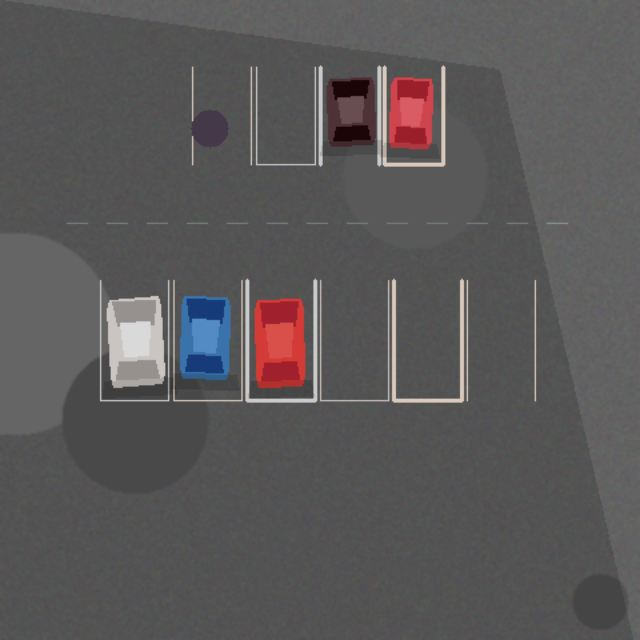space-empty: (320, 280, 388, 400), (393, 280, 461, 400), (467, 280, 535, 400), (192, 67, 251, 164), (256, 67, 315, 164)
space-occupied: (100, 280, 168, 400), (173, 280, 241, 400), (247, 280, 315, 400), (320, 67, 379, 164), (384, 67, 443, 164)
